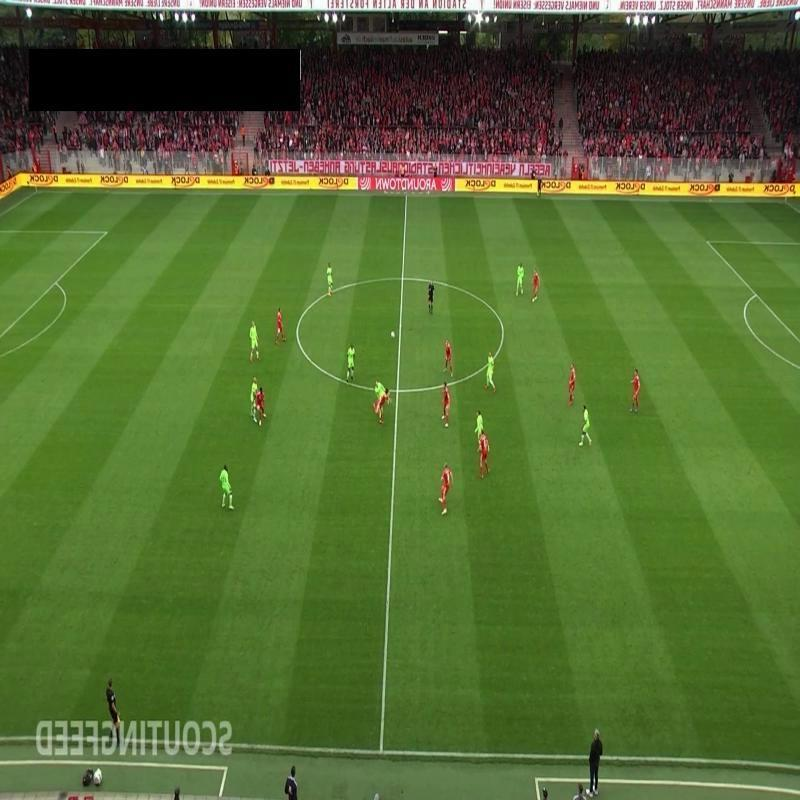1: (30, 186, 44, 200), (780, 198, 792, 208)
10: (49, 277, 63, 291), (750, 290, 763, 302)
13: (399, 186, 413, 200)
14: (396, 270, 410, 284)
15: (391, 382, 405, 399)
16: (374, 738, 390, 764)
9: (700, 234, 714, 250), (100, 226, 114, 240)
c: (495, 322, 511, 340), (290, 322, 304, 336)
